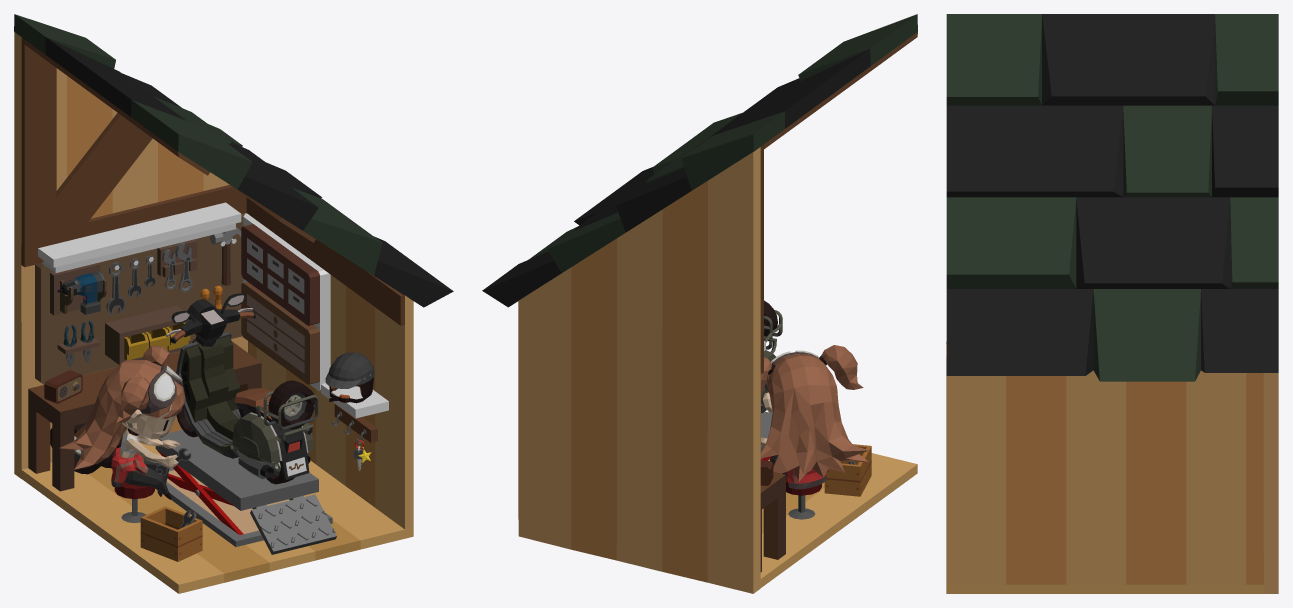
Rendered from 0062_karin_myLittleWorld.fbx.
3 renders of one model, left to right at view 1: azimuth 30°, elevation 25°; view 2: azimuth 150°, elevation 25°; view 3: azimuth 270°, elevation 25°, orthographic.
Visible parts, largest first — view 1: WallA, WallB, Roof, Plate, BoardA, RepairStand01, Karin_Head, Table, Scooter_Front, CupboardB, Bulb02, CupboardA (+19 smaller); view 2: WallA, Roof, Karin_Head, Plate, Table, ToolBox, Chair, Karin_LegR; view 3: Roof, WallB, WallA, Plate.
Part boxes in pixels (<box>): WallA: <box>14,32,247,478</box>; WallB: <box>246,197,413,529</box>; Roof: <box>14,14,453,307</box>; Plate: <box>21,442,413,593</box>; BoardA: <box>35,213,245,384</box>; RepairStand01: <box>155,429,332,546</box>; Karin_Head: <box>59,345,184,469</box>; Table: <box>28,341,261,491</box>; Scooter_Front: <box>176,332,240,455</box>; CupboardB: <box>241,224,319,325</box>; Bulb02: <box>38,202,241,267</box>; CupboardA: <box>241,282,319,384</box>; WallA: <box>518,145,763,593</box>; Roof: <box>482,14,917,307</box>; Karin_Head: <box>760,345,869,482</box>; Plate: <box>760,453,917,587</box>; Table: <box>760,472,785,572</box>; ToolBox: <box>824,444,871,496</box>; Chair: <box>786,478,821,519</box>; Karin_LegR: <box>782,468,826,489</box>; Roof: <box>946,14,1278,381</box>; WallB: <box>946,342,1263,584</box>; WallA: <box>1263,373,1278,593</box>; Plate: <box>946,584,1263,593</box>.
Bounding box in the file's own units: 5.66 × 8 × 5.18.
